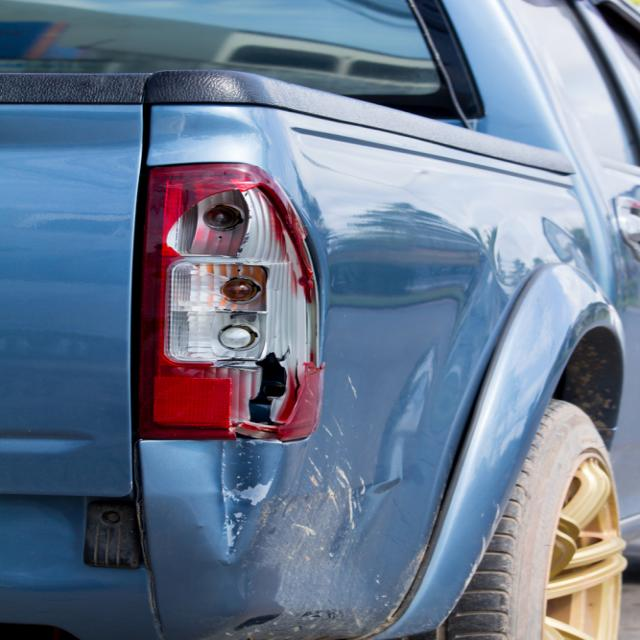Cabossage: (296, 218, 501, 627), (207, 442, 279, 559)
Phare abime: (157, 164, 316, 438)
Rayure: (288, 361, 380, 584)
